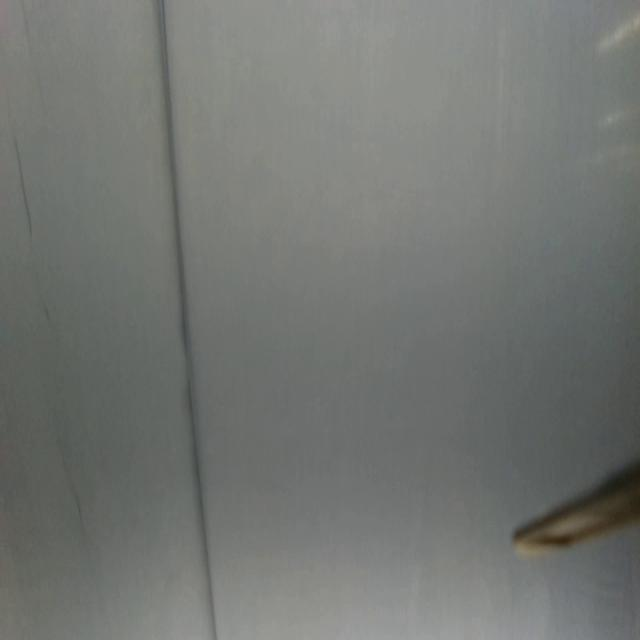crease: (156, 0, 220, 640), (12, 131, 33, 246)
